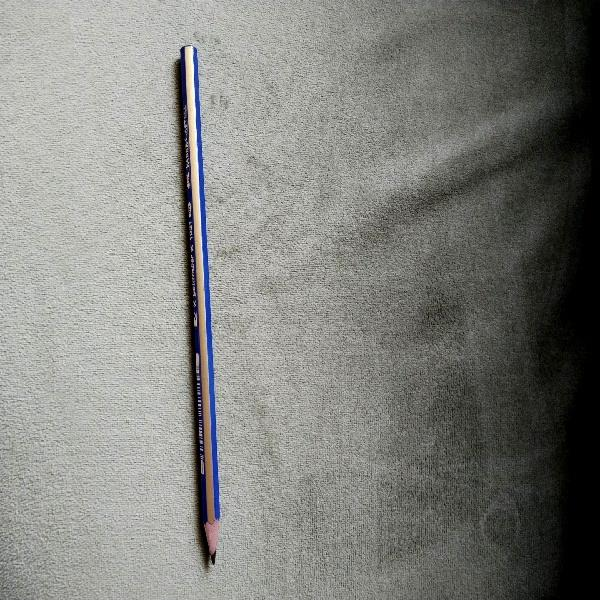pencil: (172, 41, 226, 569)
